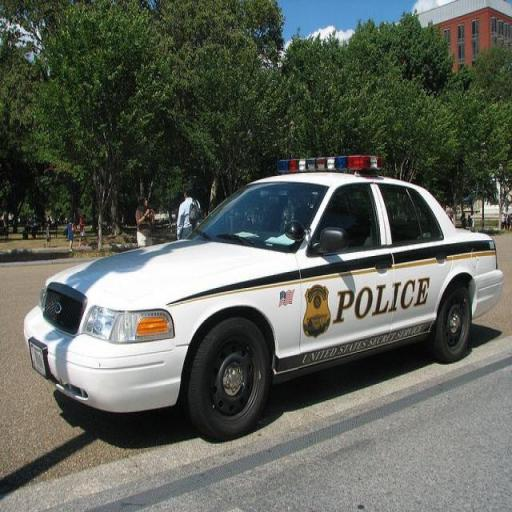Ambulance: (24, 153, 510, 390)
